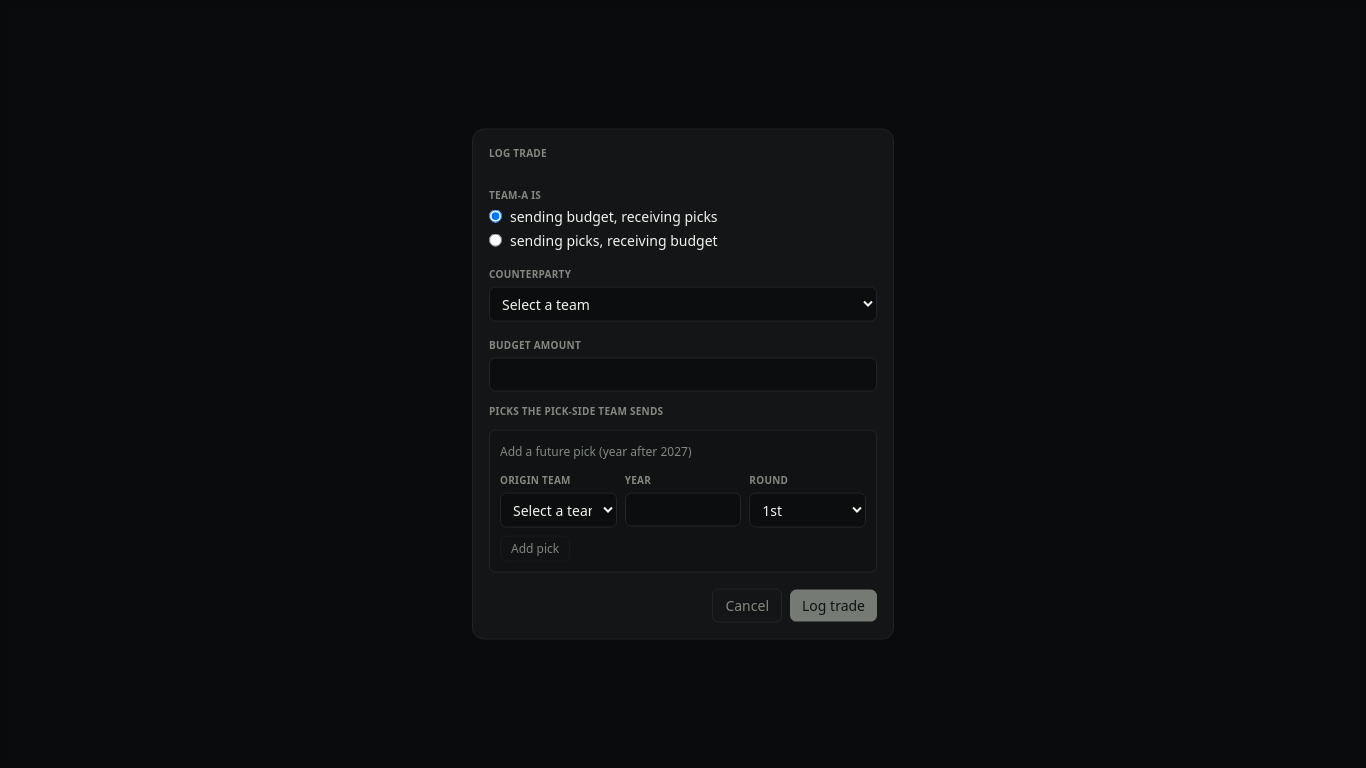
Scenario: TradeModal › shows a mapped error message and refreshes without closing when the mutation is rejected
Select "Team B" in the dropdown with test id "trade-counterparty-select" at (683, 304), box [489,286,877,321]
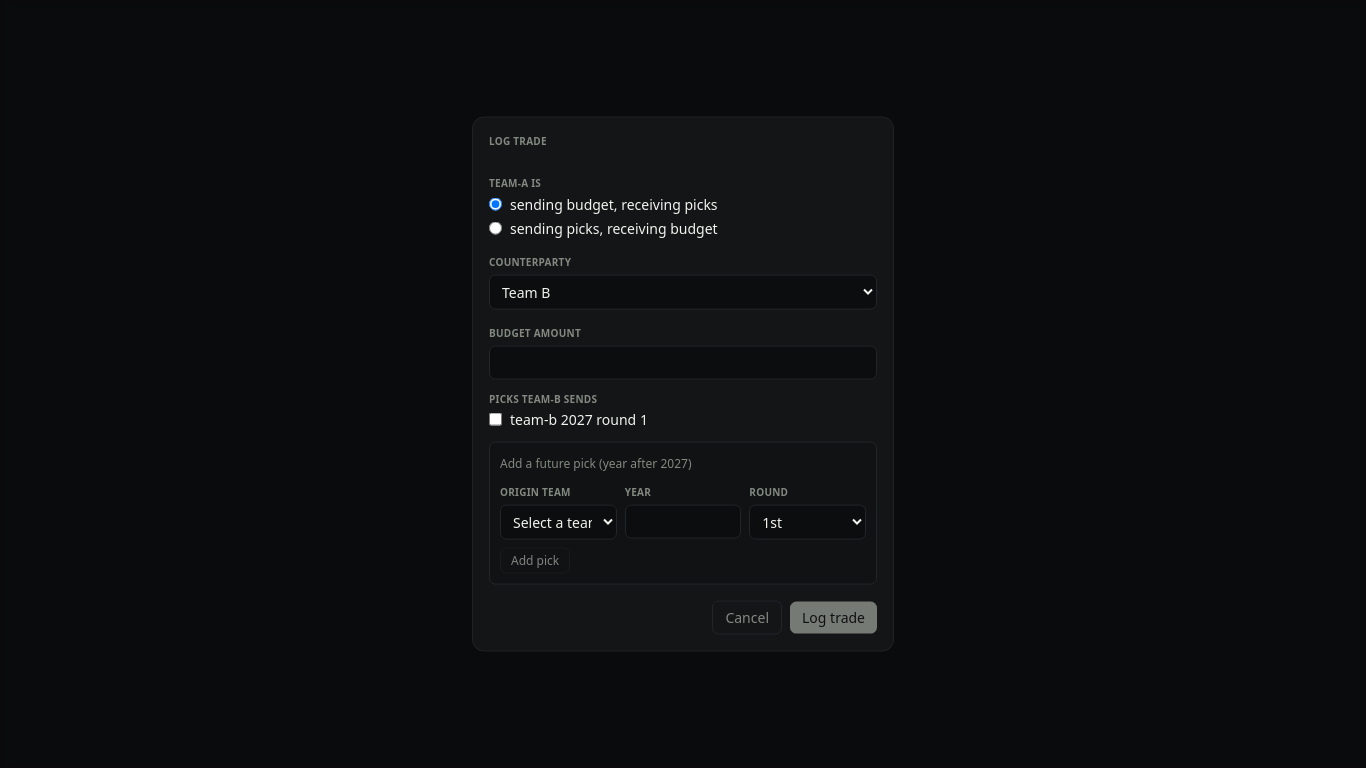
Type "80" into the number field with test id "trade-budget-amount-input" at (683, 362), box [489,345,877,379]
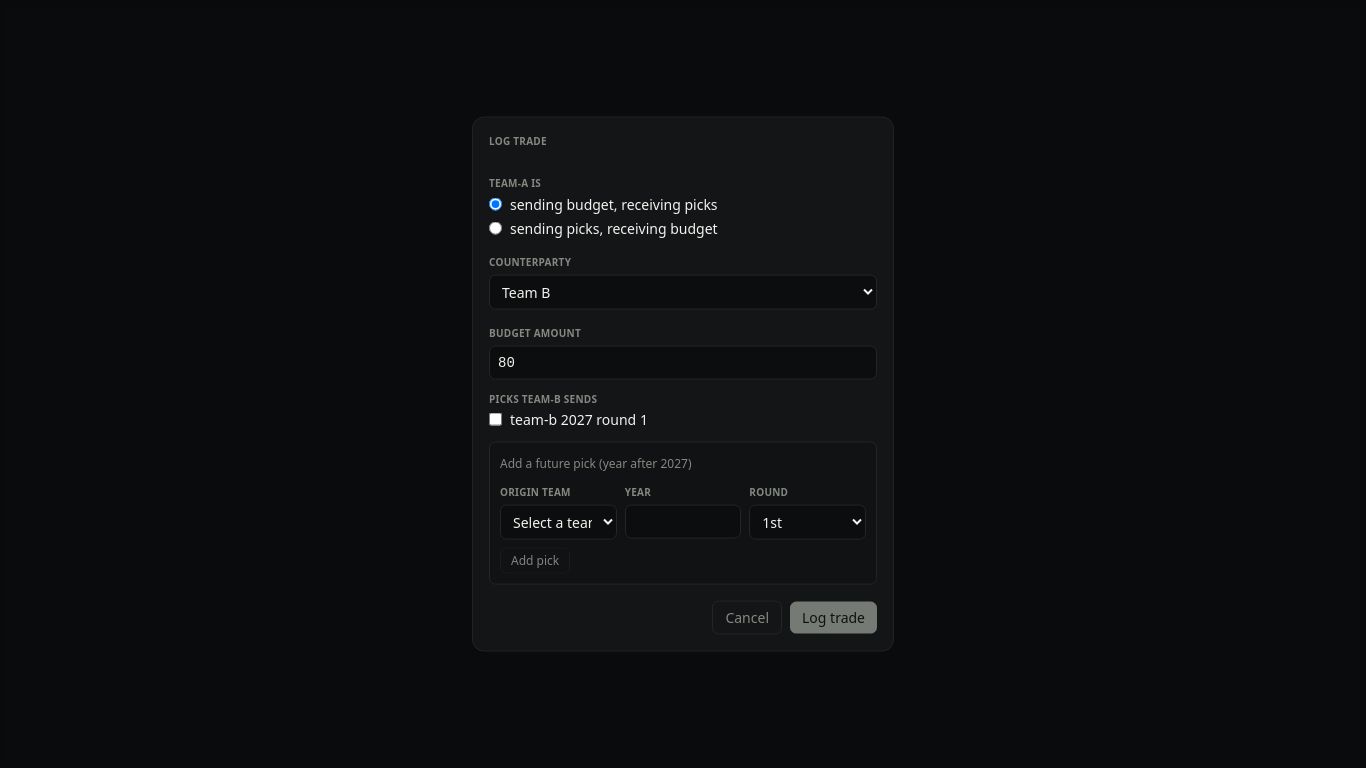
Click the checkbox with test id "trade-pick-checkbox-9:2027:1" at (496, 419), box [489,413,502,426]
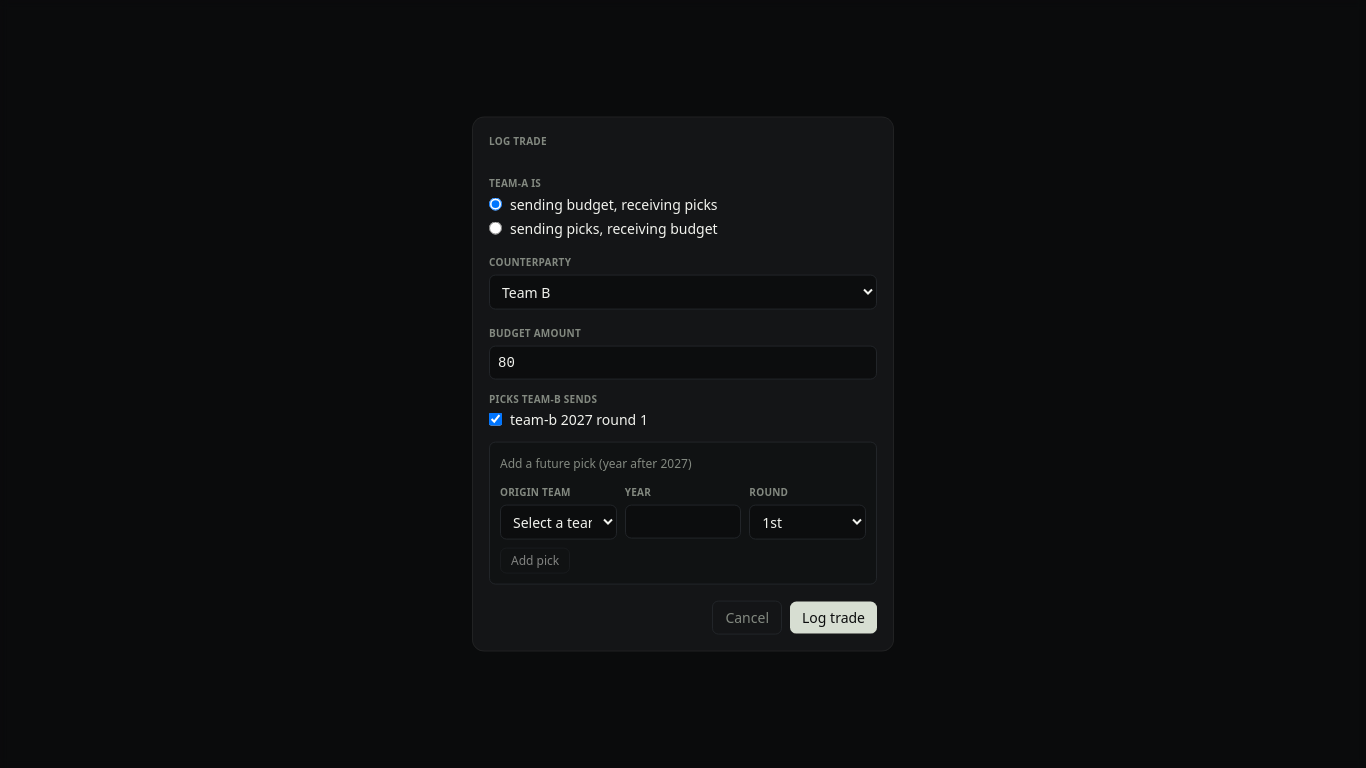
Click the button with test id "trade-submit-button" at (834, 617), box [790,601,877,633]
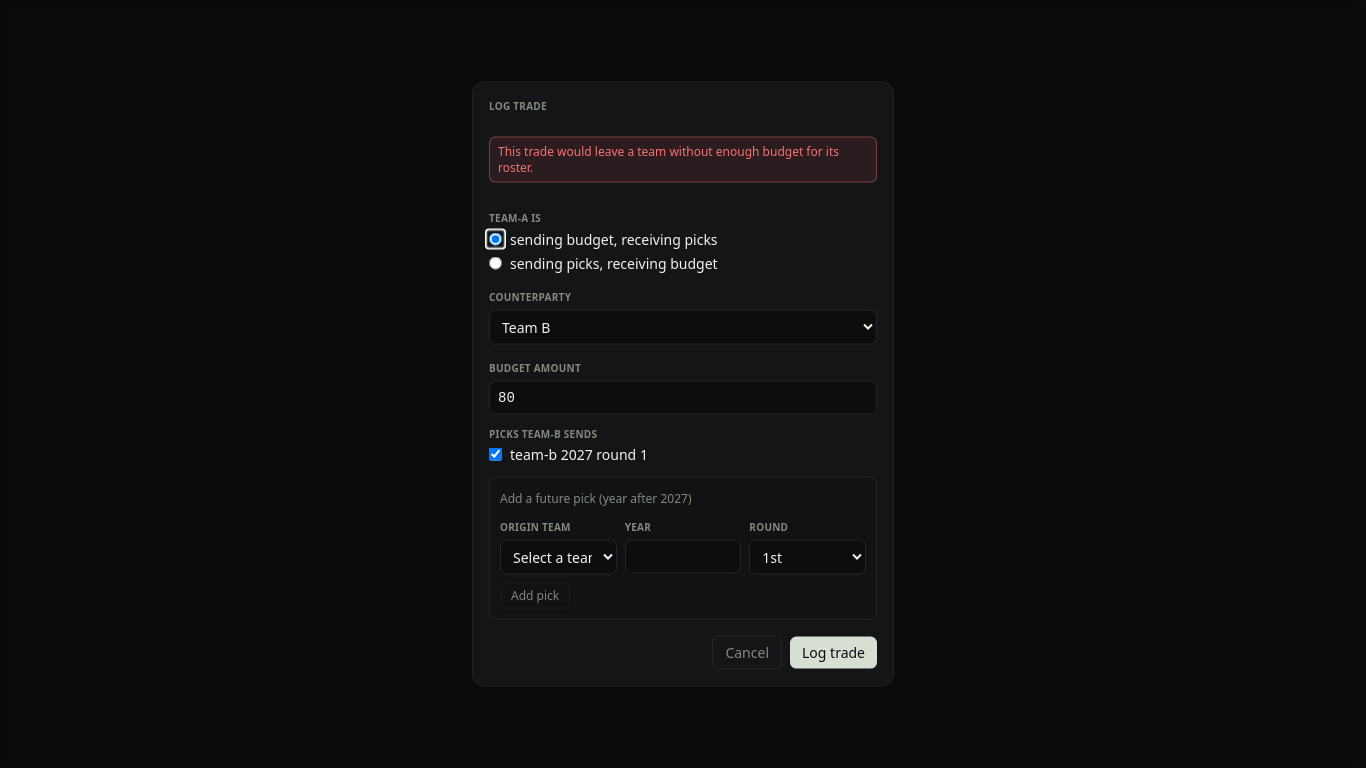
Now the message with test id "trade-modal-error" reads "This trade would leave a team without enough budget for its roster.", box [498,143,839,176]
